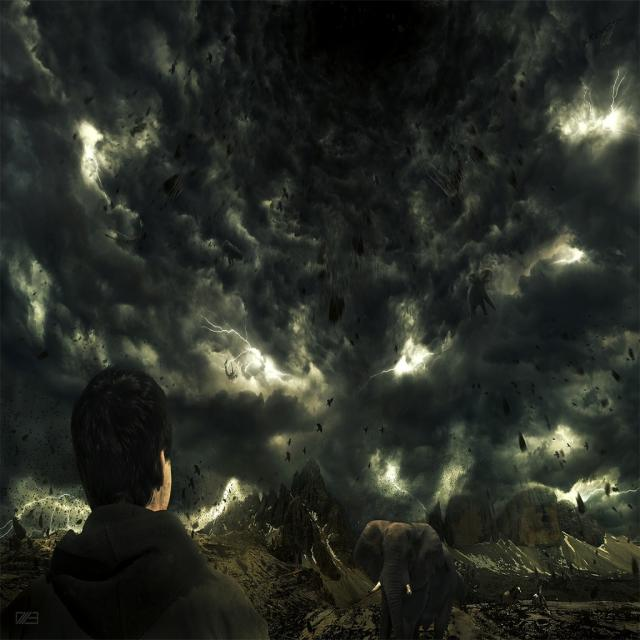Elephant: (352, 518, 467, 640)
person: (1, 364, 270, 639)
